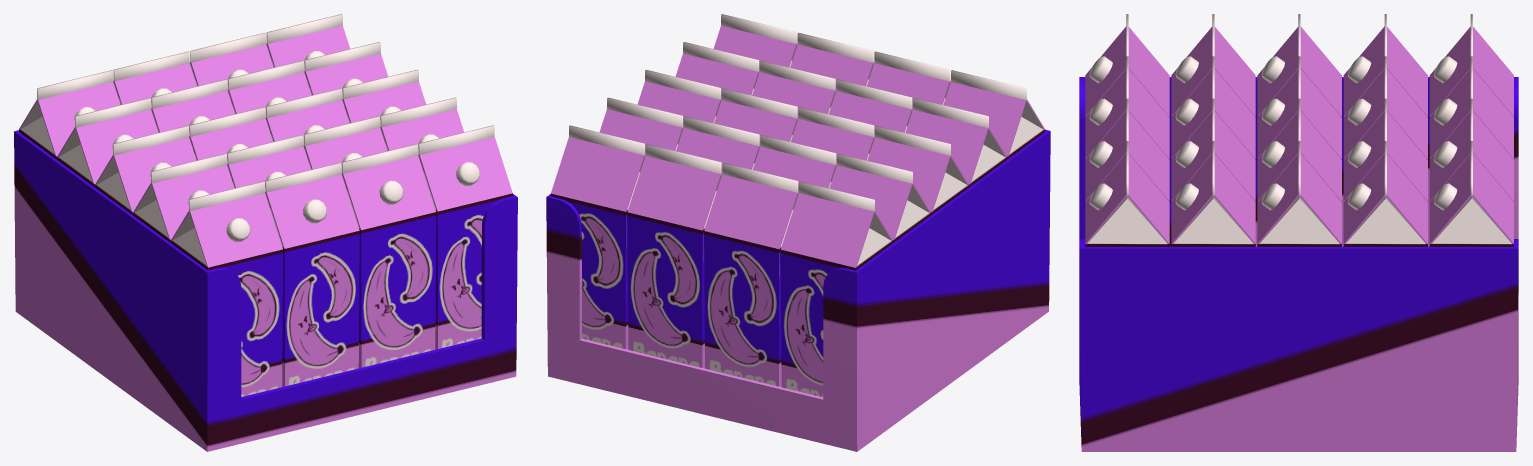
Rendered from Juice_Big_Banana_x20.fbx.
The picture shows the model from 3 angles, left to right: view 1: azimuth 30°, elevation 25°; view 2: azimuth 150°, elevation 25°; view 3: azimuth 270°, elevation 25°; orthographic projection. The views are drawn at different scales.
Parts seen in each view (by area): view 1: Juice_Big_Strawberry.002; view 2: Juice_Big_Strawberry.002; view 3: Juice_Big_Strawberry.002.
Boxes of the visible parts, bbox=[...] form: Juice_Big_Strawberry.002: bbox=[14, 14, 517, 451]; Juice_Big_Strawberry.002: bbox=[546, 14, 1050, 451]; Juice_Big_Strawberry.002: bbox=[1079, 14, 1518, 451].
Bounding box in the file's own units: 55.73 × 40.63 × 60.26.
1 material, 1 textured.
